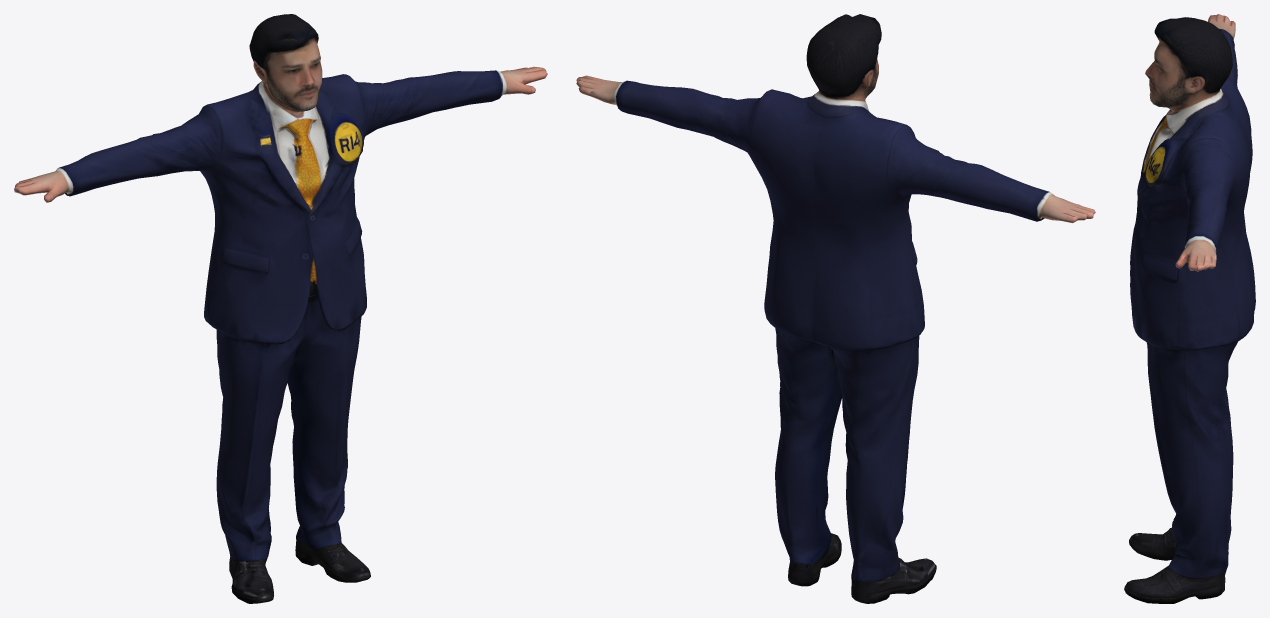
File: renam_santos.glb
3 views of the same model, side by side, from view 1: azimuth 30°, elevation 25°; view 2: azimuth 150°, elevation 25°; view 3: azimuth 270°, elevation 25° (orthographic).
Parts seen in each view (by area): view 1: tripo_node_fbe96b51-46ba-4f27-a7d2-b0e435031a28_0; view 2: tripo_node_fbe96b51-46ba-4f27-a7d2-b0e435031a28_0; view 3: tripo_node_fbe96b51-46ba-4f27-a7d2-b0e435031a28_0.
Boxes of the visible parts, x1,y1,x2,y2 form: tripo_node_fbe96b51-46ba-4f27-a7d2-b0e435031a28_0: (14, 14, 547, 603); tripo_node_fbe96b51-46ba-4f27-a7d2-b0e435031a28_0: (576, 14, 1095, 603); tripo_node_fbe96b51-46ba-4f27-a7d2-b0e435031a28_0: (1124, 14, 1255, 603).
Size of the model in its own units: 1.74 by 1.78 by 0.3833.
Materials: 1 (1 with a texture image).
